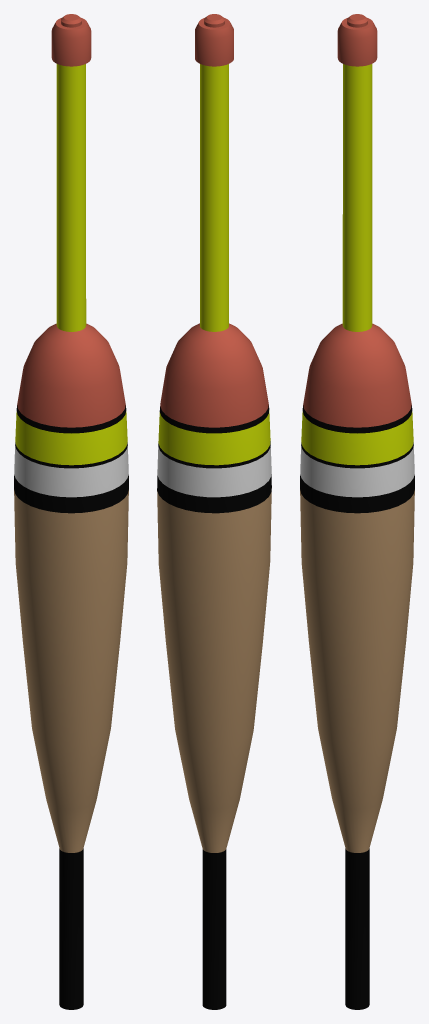
The model's file is splawik3.fbx.
3 views of the same model, side by side, from view 1: azimuth 90°, elevation 25°; view 2: azimuth 150°, elevation 25°; view 3: azimuth 270°, elevation 25° (orthographic).
Visible parts, largest first — view 1: Cylinder.002; view 2: Cylinder.002; view 3: Cylinder.002.
Part boxes in pixels (<box>): Cylinder.002: <box>14,14,128,1009</box>; Cylinder.002: <box>157,14,271,1009</box>; Cylinder.002: <box>300,14,414,1009</box>.
Size of the model in its own units: 105 by 991 by 105.
